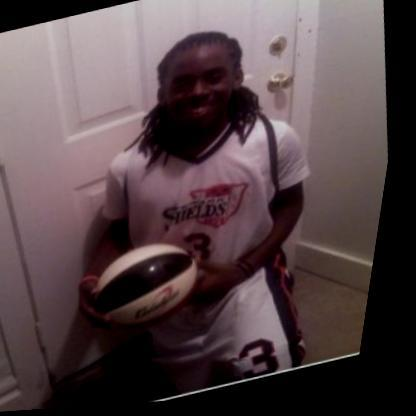basketball: (90, 236, 220, 341)
